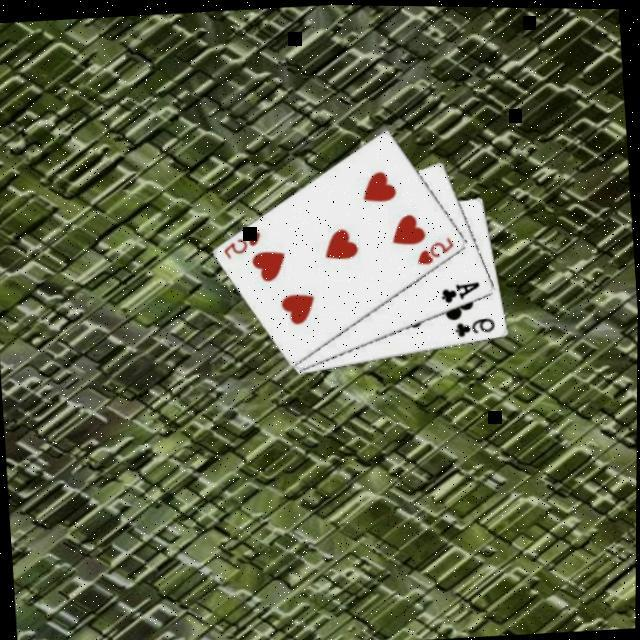5H: (414, 232, 460, 268), (221, 226, 267, 262)
9C: (453, 312, 501, 340)
AC: (439, 276, 486, 306)
